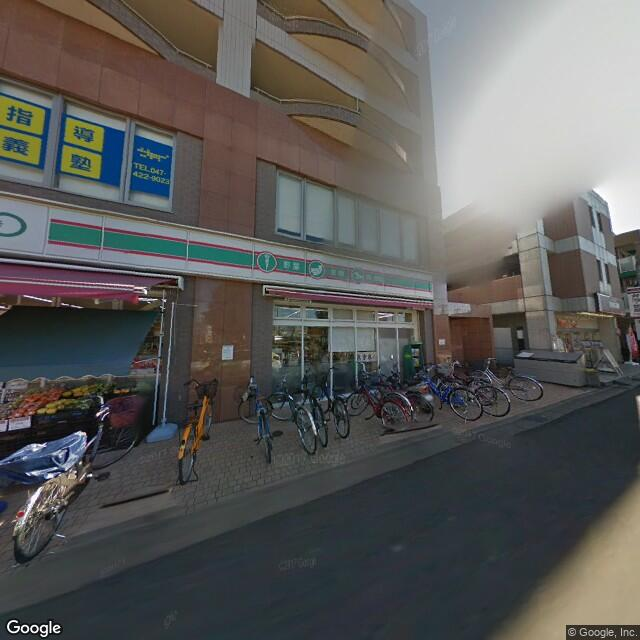lawson: (1, 192, 437, 305)
